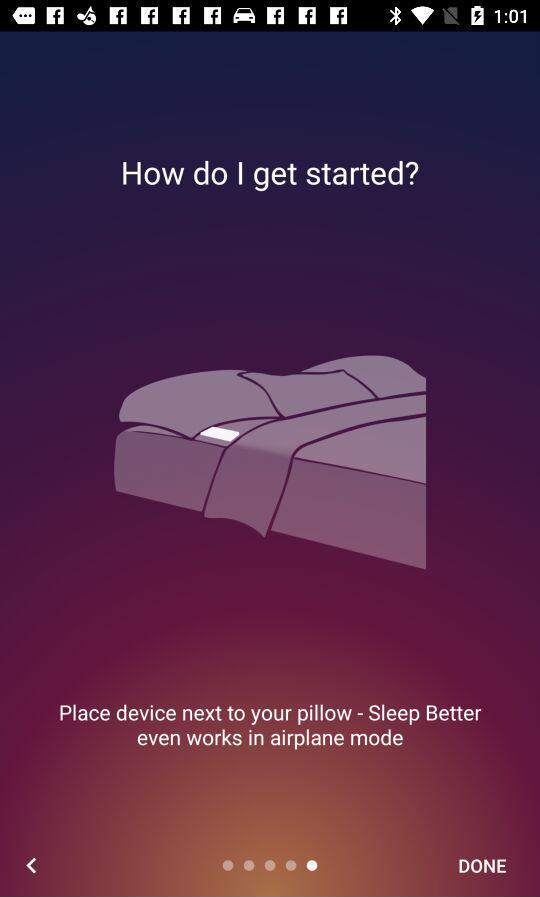Icon: (26, 857, 39, 875)
Image: (113, 354, 426, 570)
PageIndicator: (222, 858, 319, 873)
Text: (59, 703, 484, 751), (122, 161, 420, 194), (458, 858, 508, 874)
UpperTaskBar: (1, 1, 540, 33)
